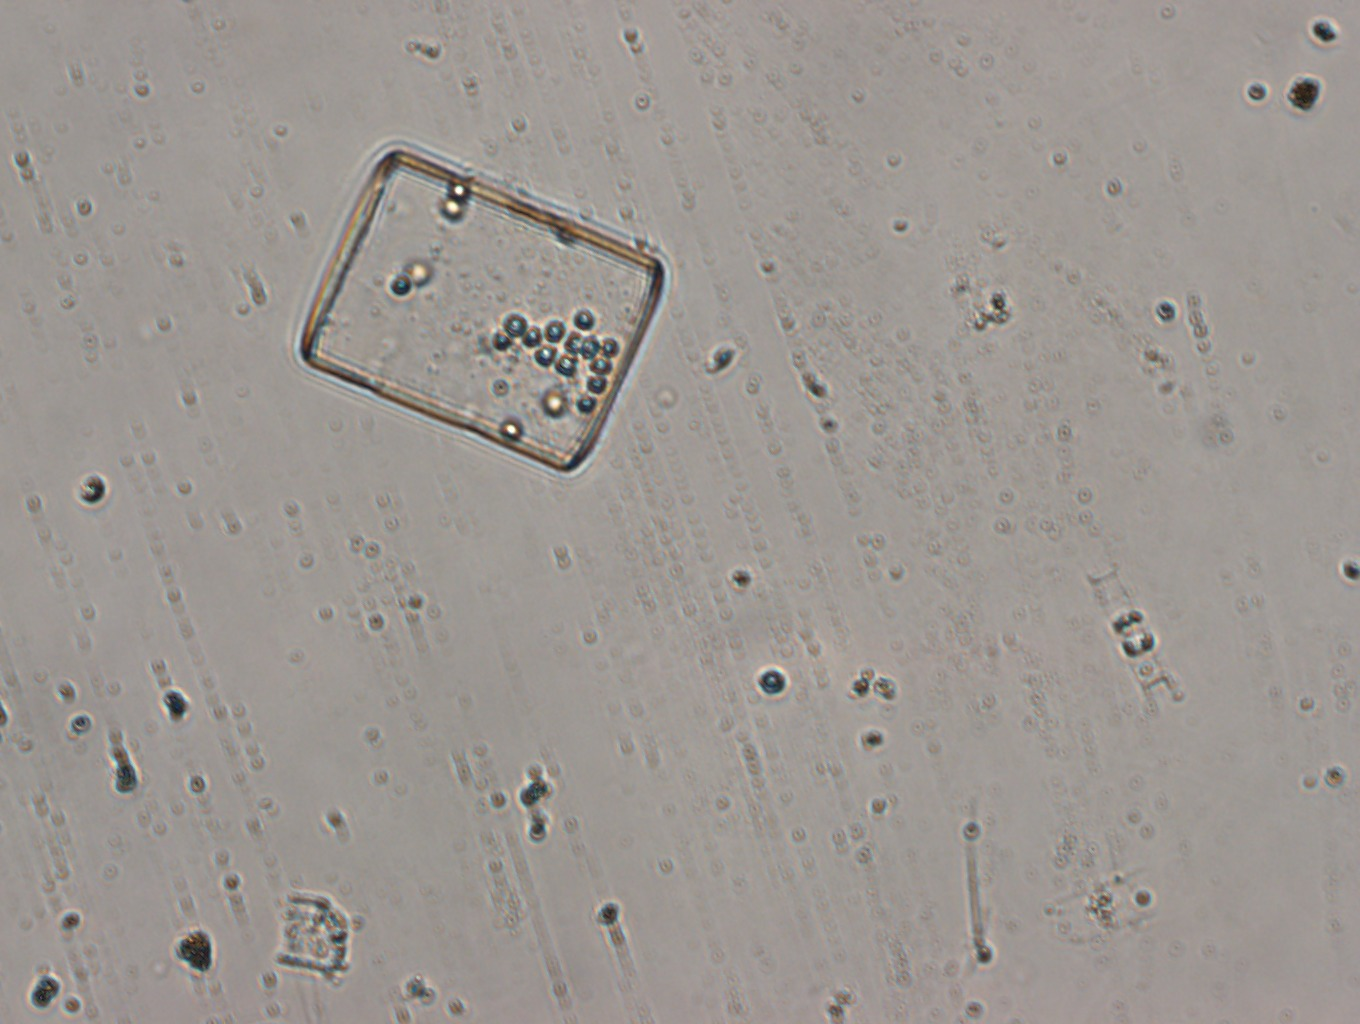guinardia flaccida: (294, 141, 671, 478)
skeletonema: (1086, 566, 1180, 717)
